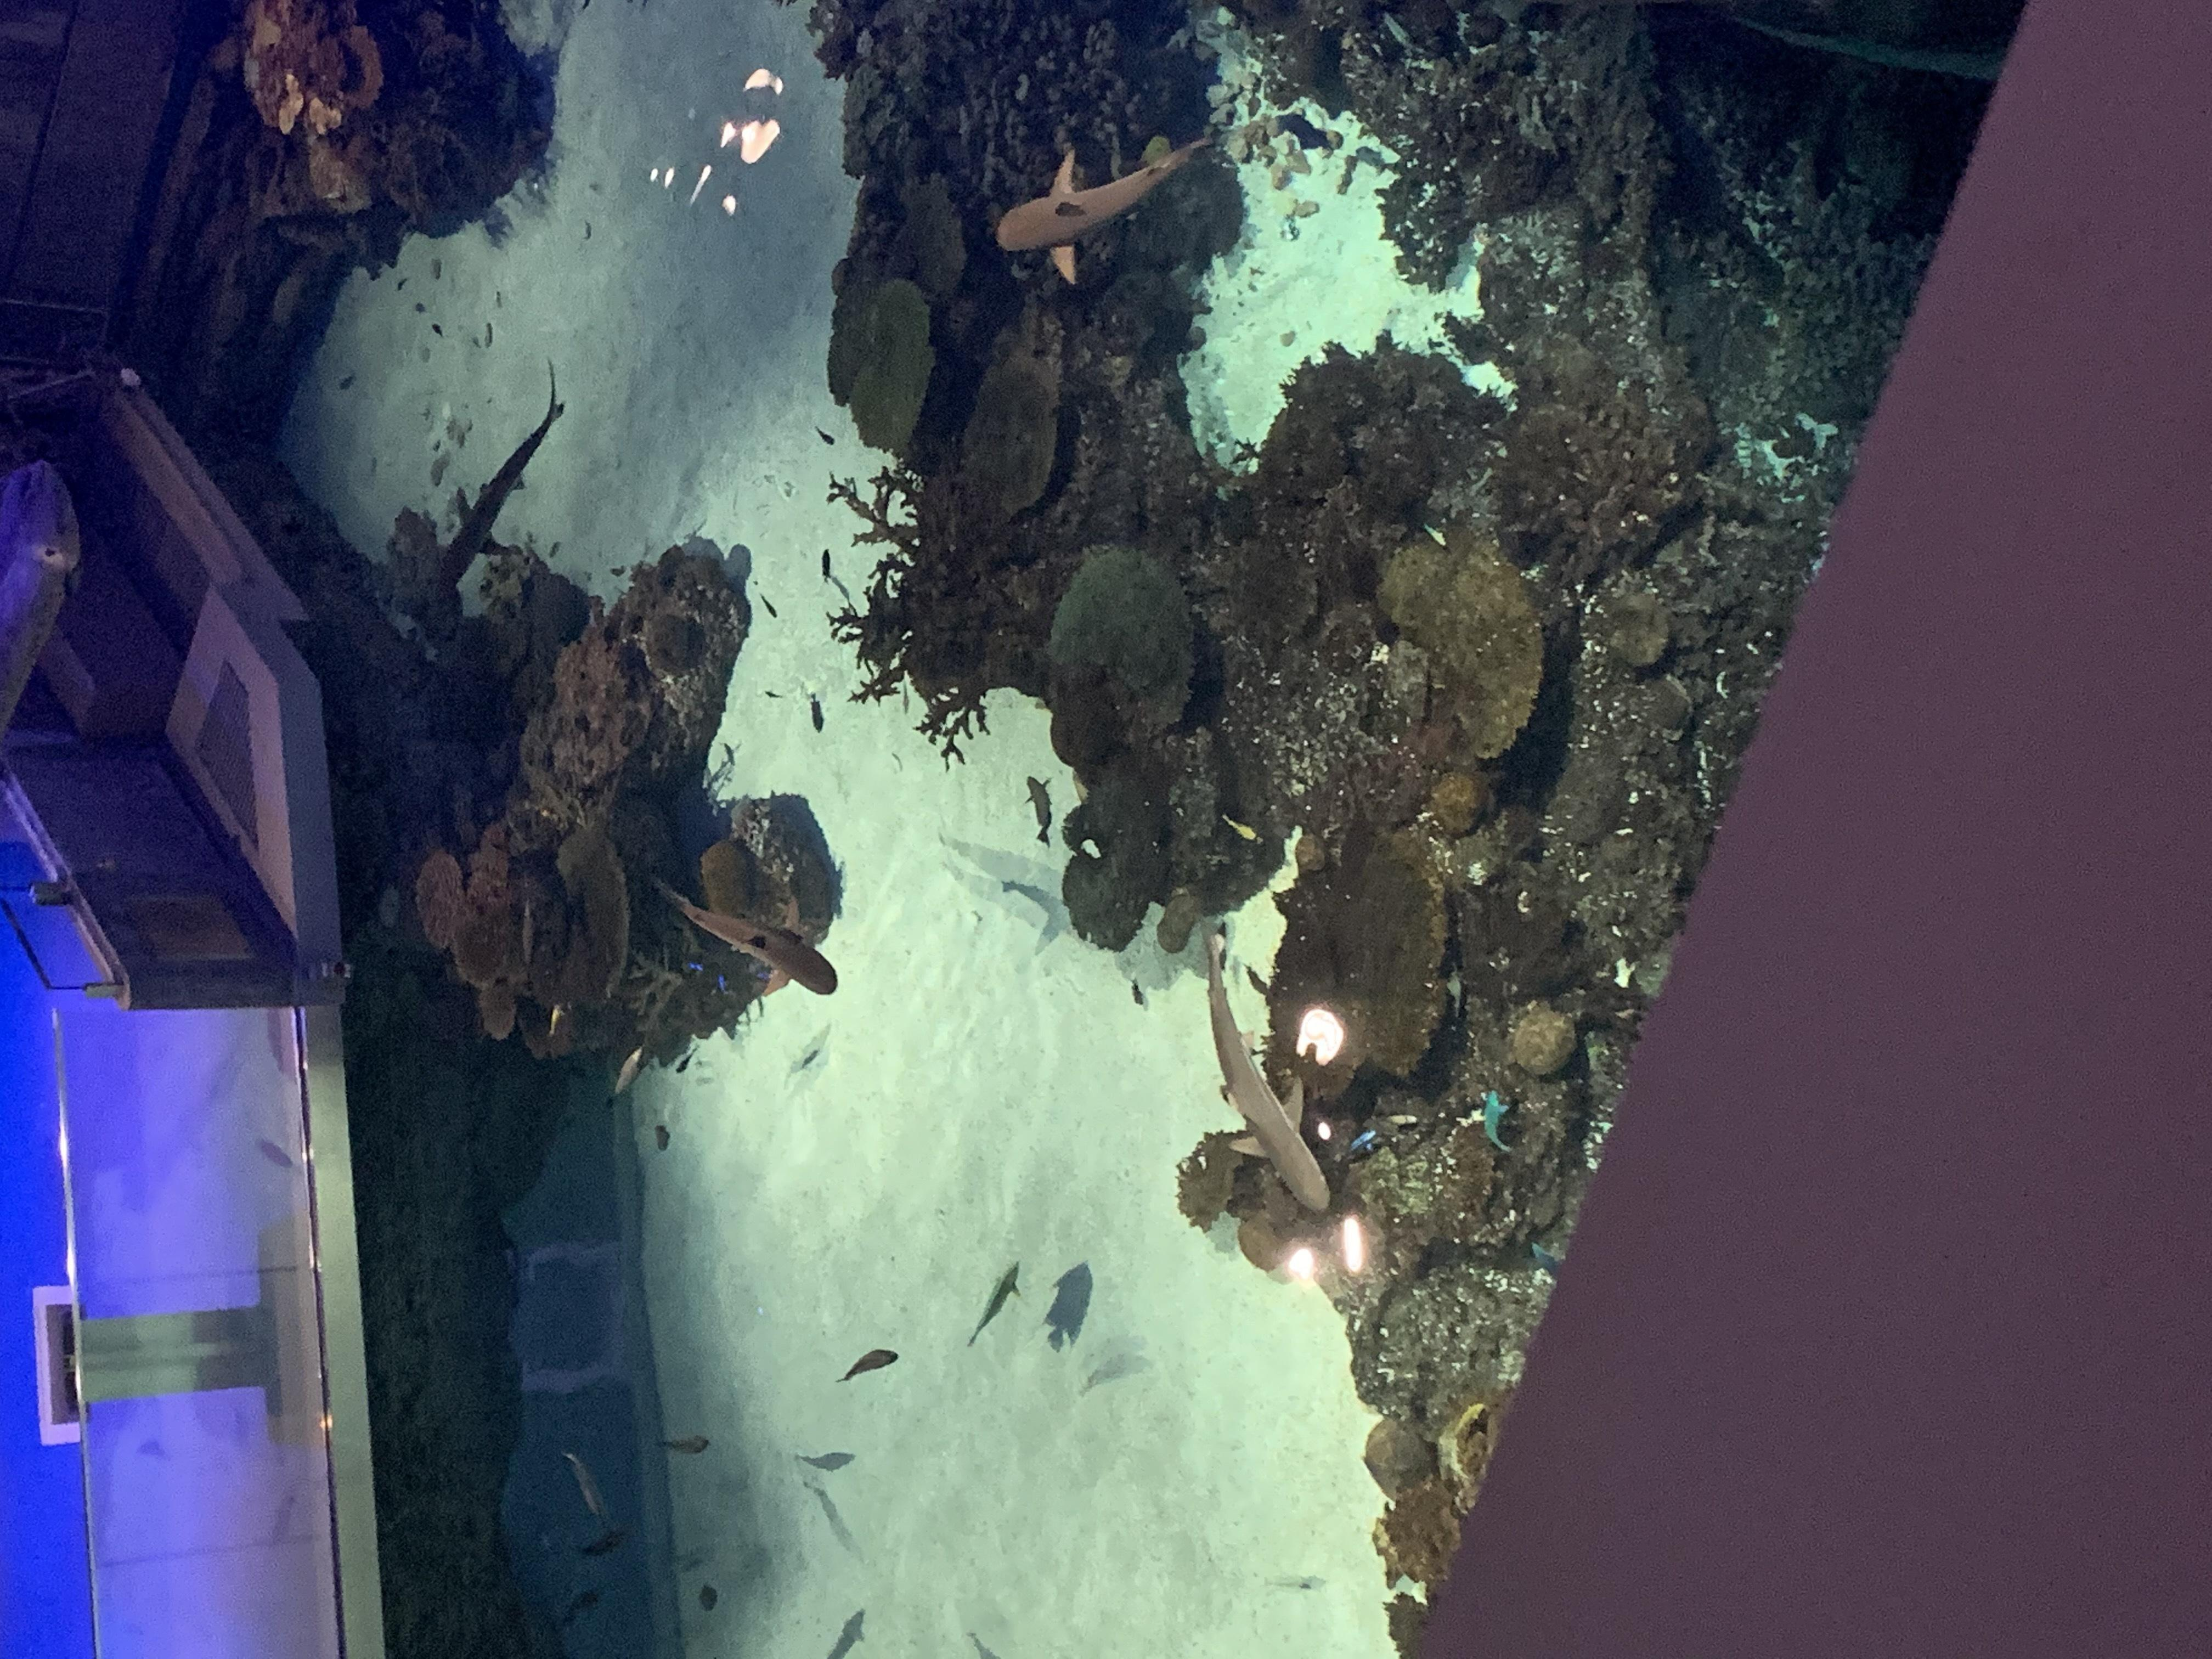fish: (961, 1258, 1026, 1352), (560, 1446, 616, 1533), (1021, 771, 1064, 850), (832, 1345, 903, 1388), (608, 1043, 652, 1104), (1482, 1086, 1514, 1156), (1332, 1124, 1385, 1166), (542, 999, 582, 1048), (651, 1432, 713, 1457), (1528, 1239, 1560, 1283), (673, 1040, 705, 1080), (816, 545, 838, 586), (806, 690, 827, 731), (757, 590, 782, 619), (1378, 1113, 1420, 1130), (812, 423, 837, 450), (431, 322, 444, 340)
shark: (421, 357, 581, 606), (1201, 929, 1335, 1215), (996, 131, 1236, 282), (645, 869, 840, 1001)
